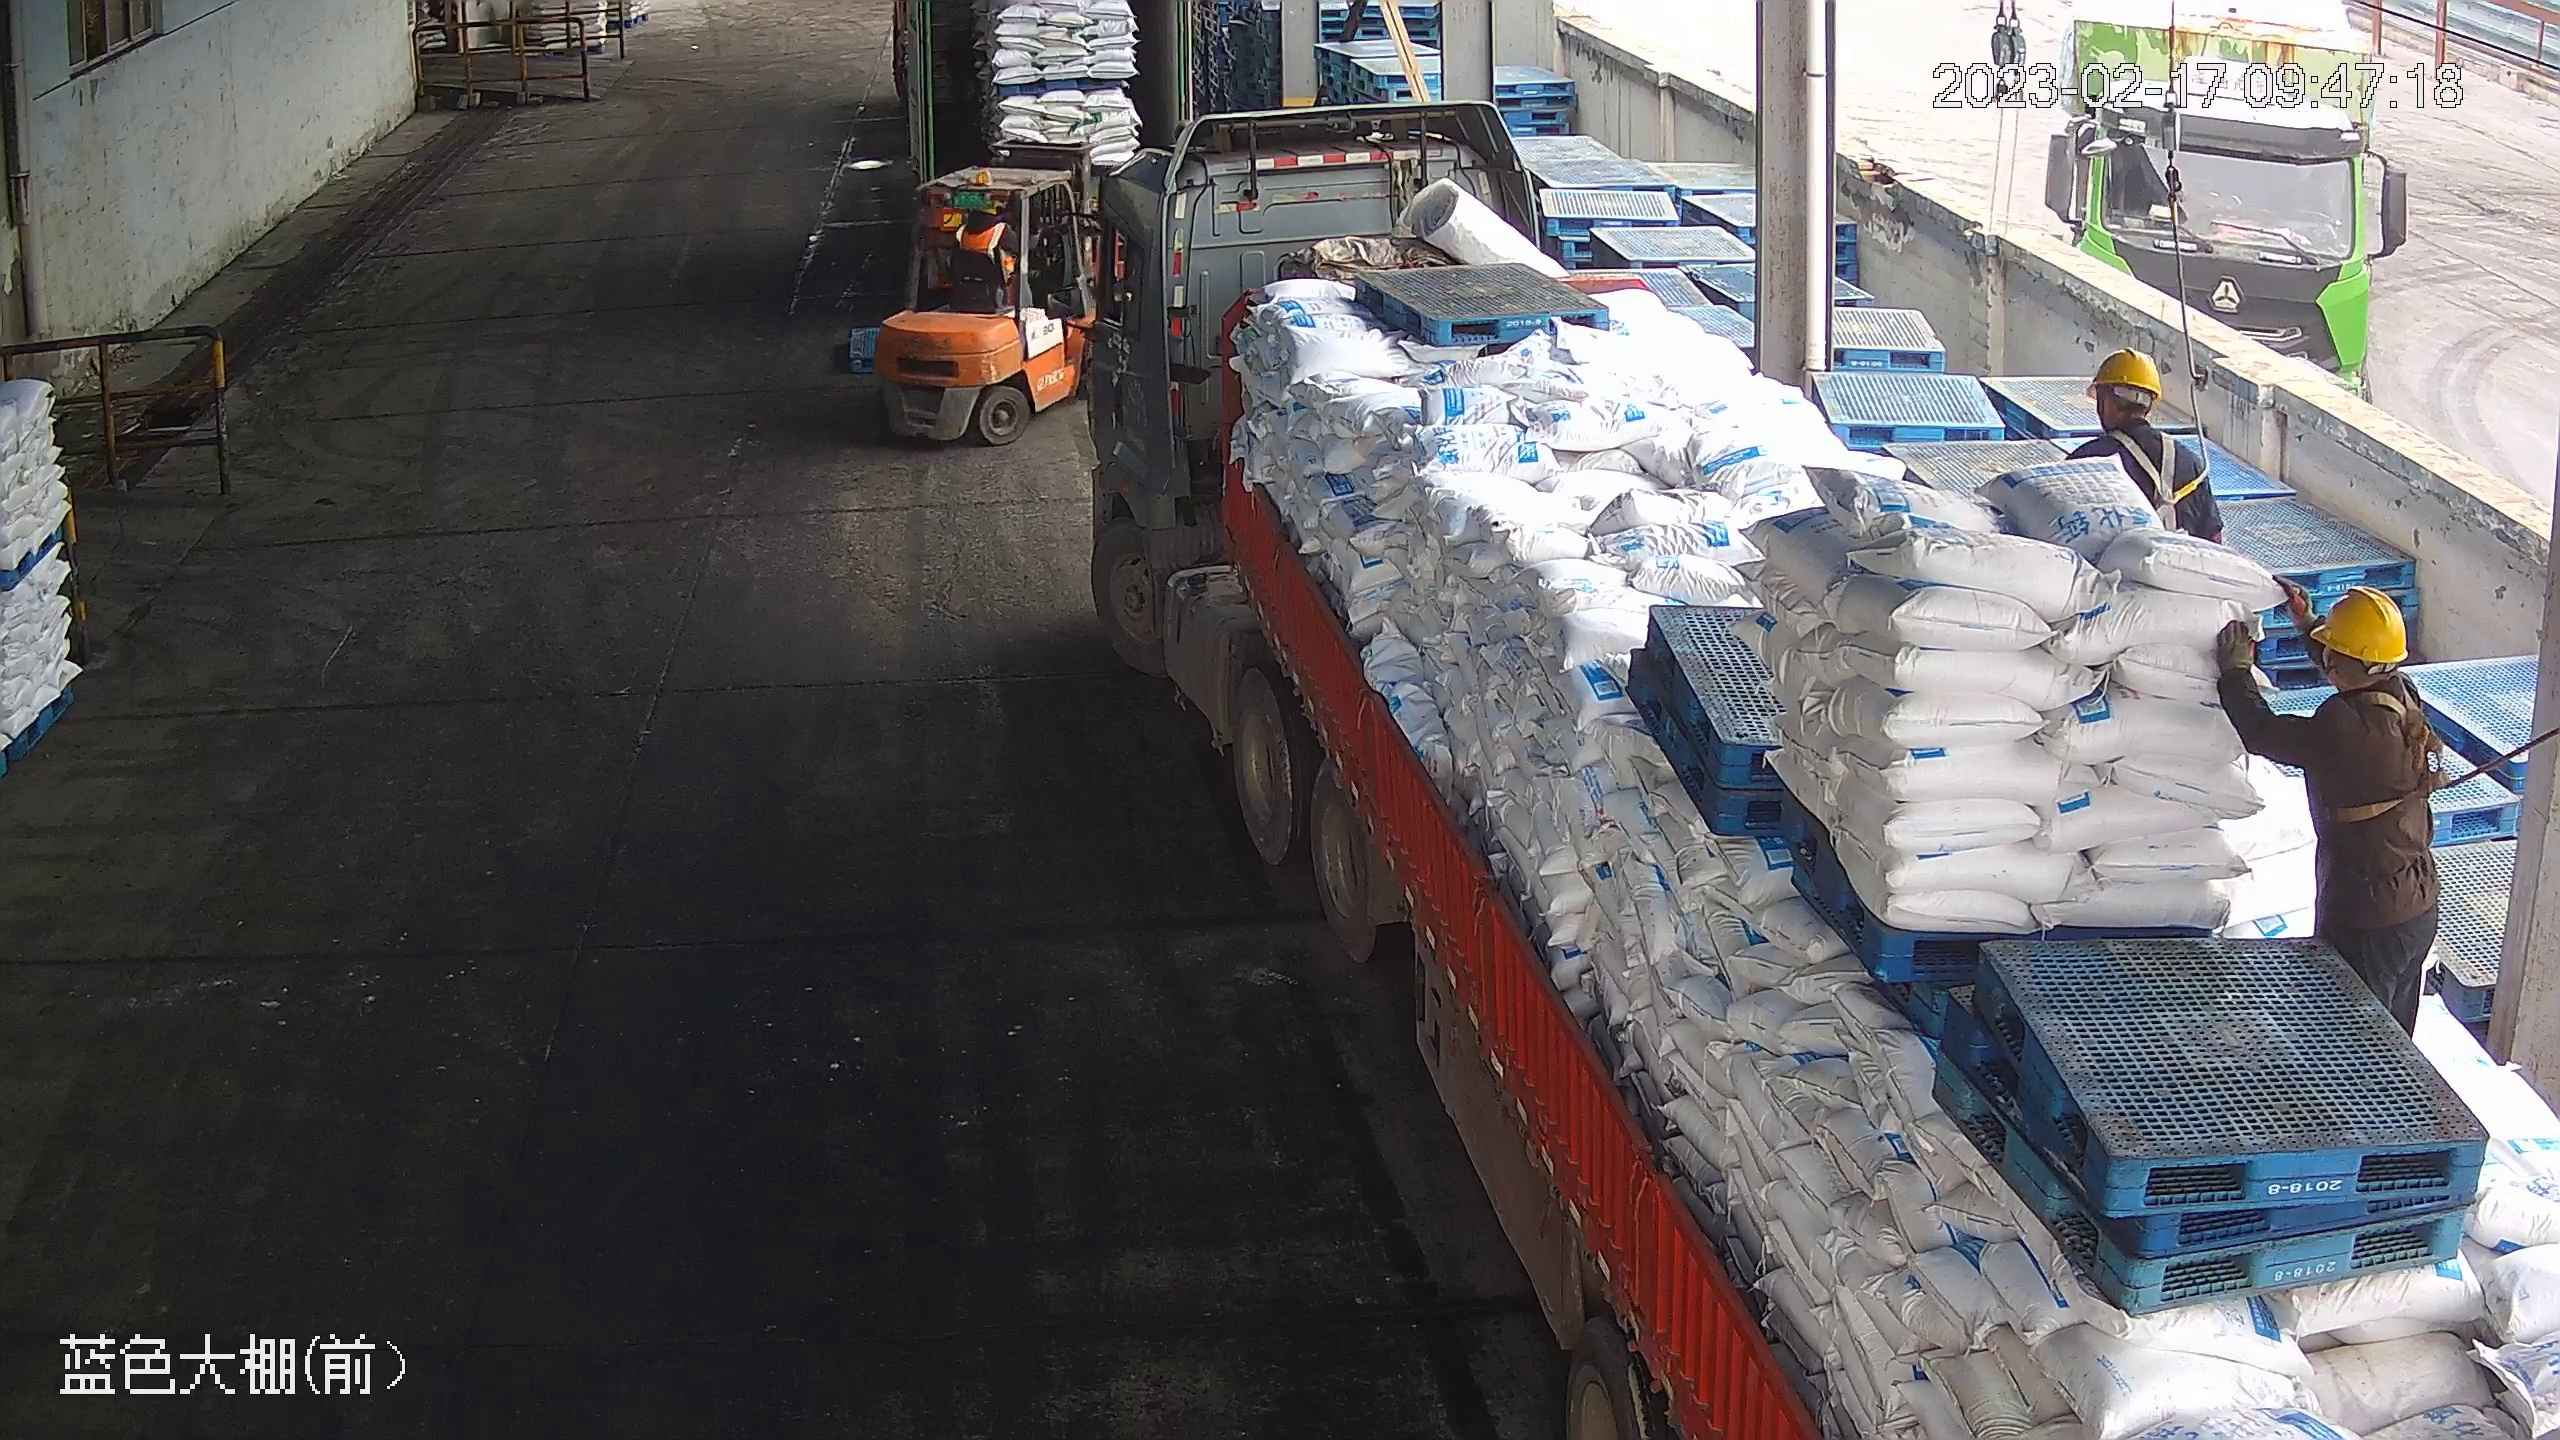belt: (2329, 675, 2439, 830), (2125, 416, 2202, 514)
head: (2215, 582, 2432, 767), (2070, 346, 2205, 480)
helmet: (2311, 581, 2411, 666), (2091, 346, 2164, 396)
people: (2210, 584, 2441, 1040)
truck: (1090, 82, 2551, 1435)
